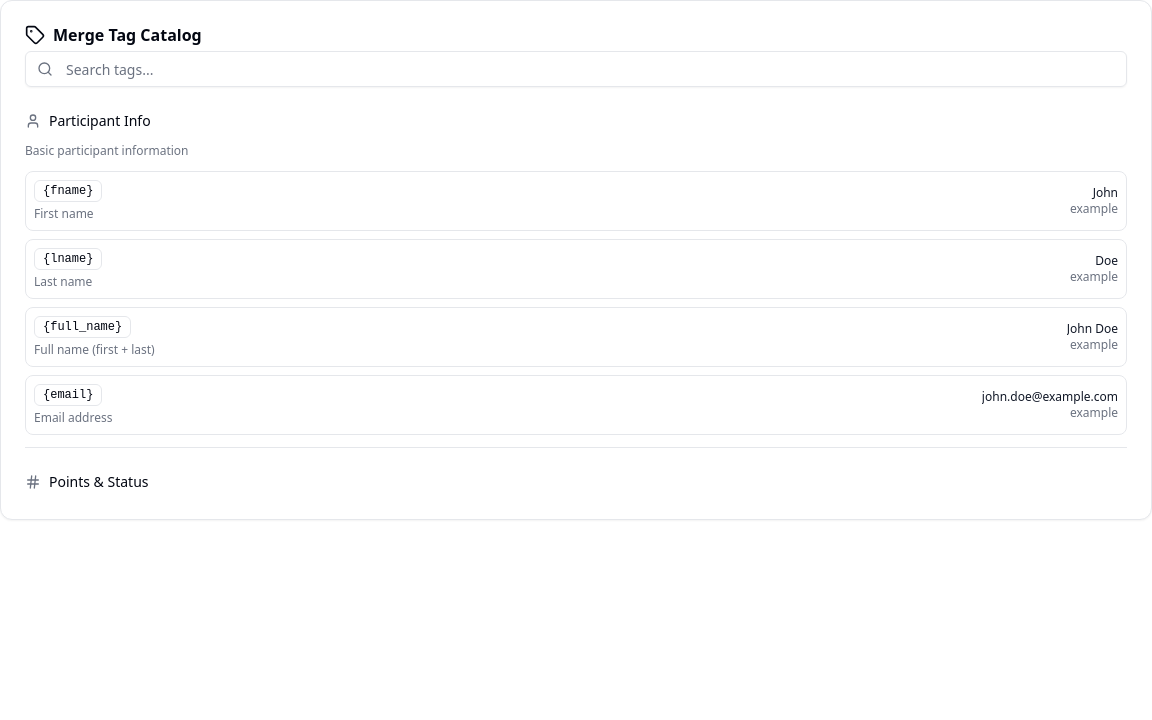
Test: MergeTagPalette › shows no results when search finds nothing
Type "nonexistent" into the field with placeholder "Search tags..." at (576, 69), box [25,51,1127,87]
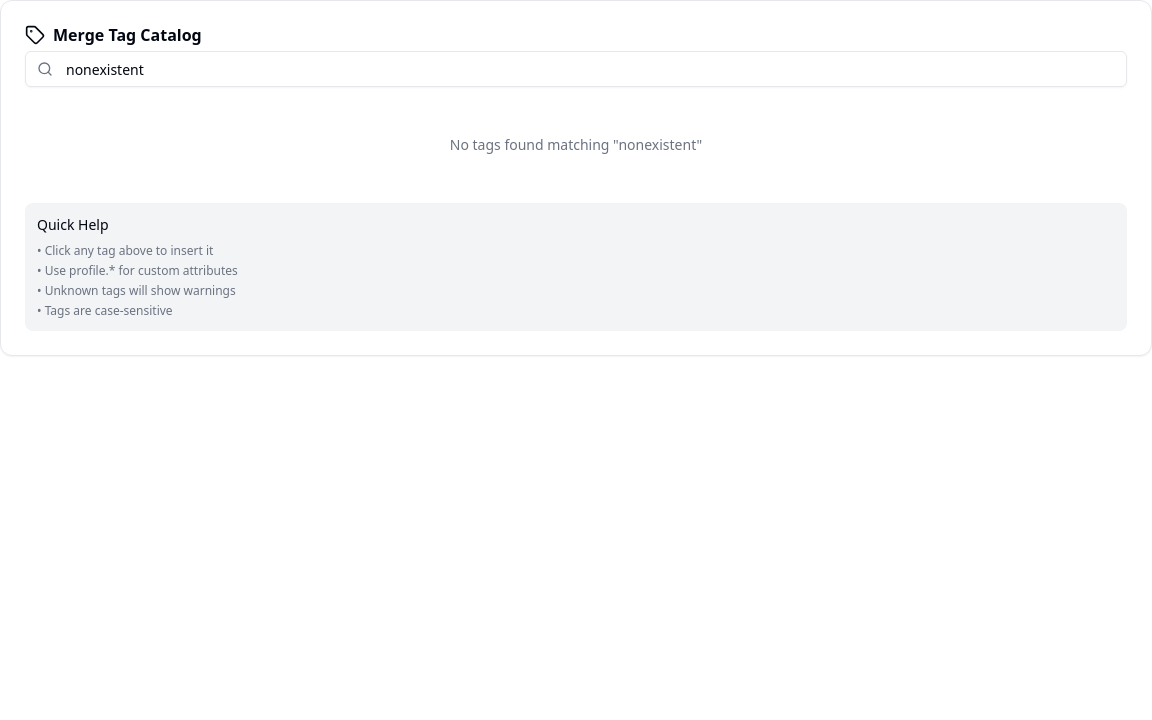
Check: the text "No tags found matching \"nonexistent\"" is shown, box [450,135,702,154]
